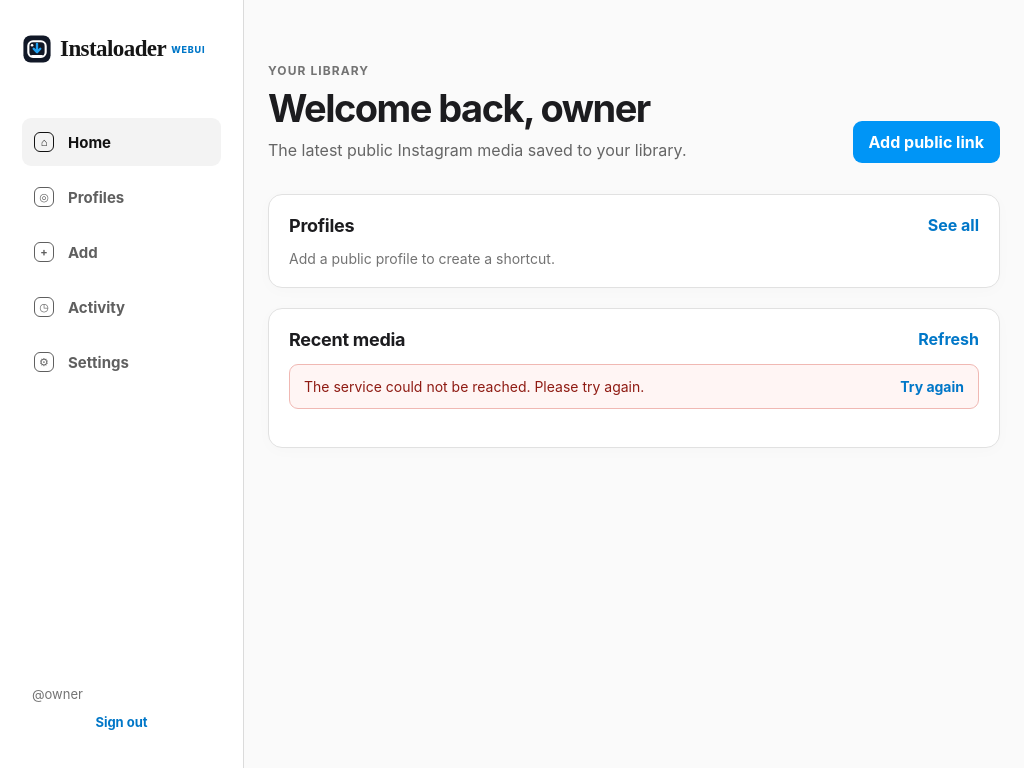
Test: App › logs out with csrf and returns to login
Click the button "Sign out".
click(122, 722)  # box x1=32 y1=714 x2=211 y2=730
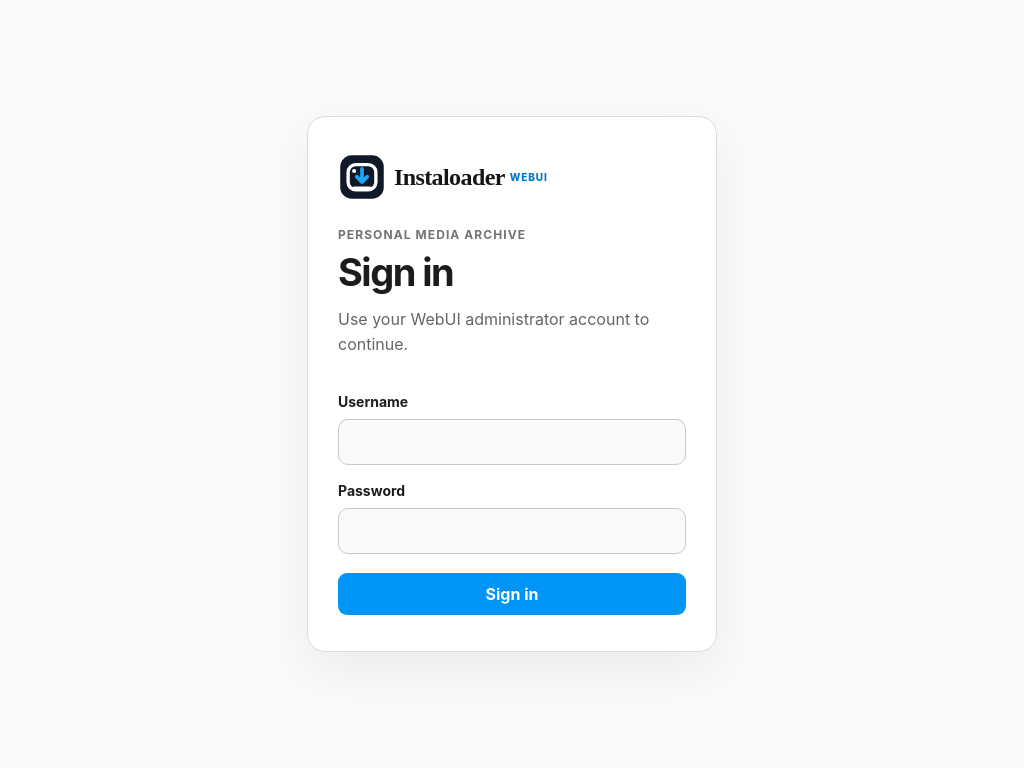
Check: the heading "Sign in" is shown, box x1=338 y1=249 x2=453 y2=295
